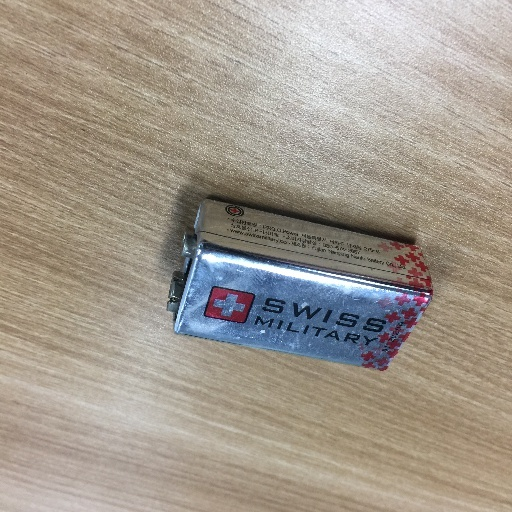Battery_3: (147, 184, 450, 394)
